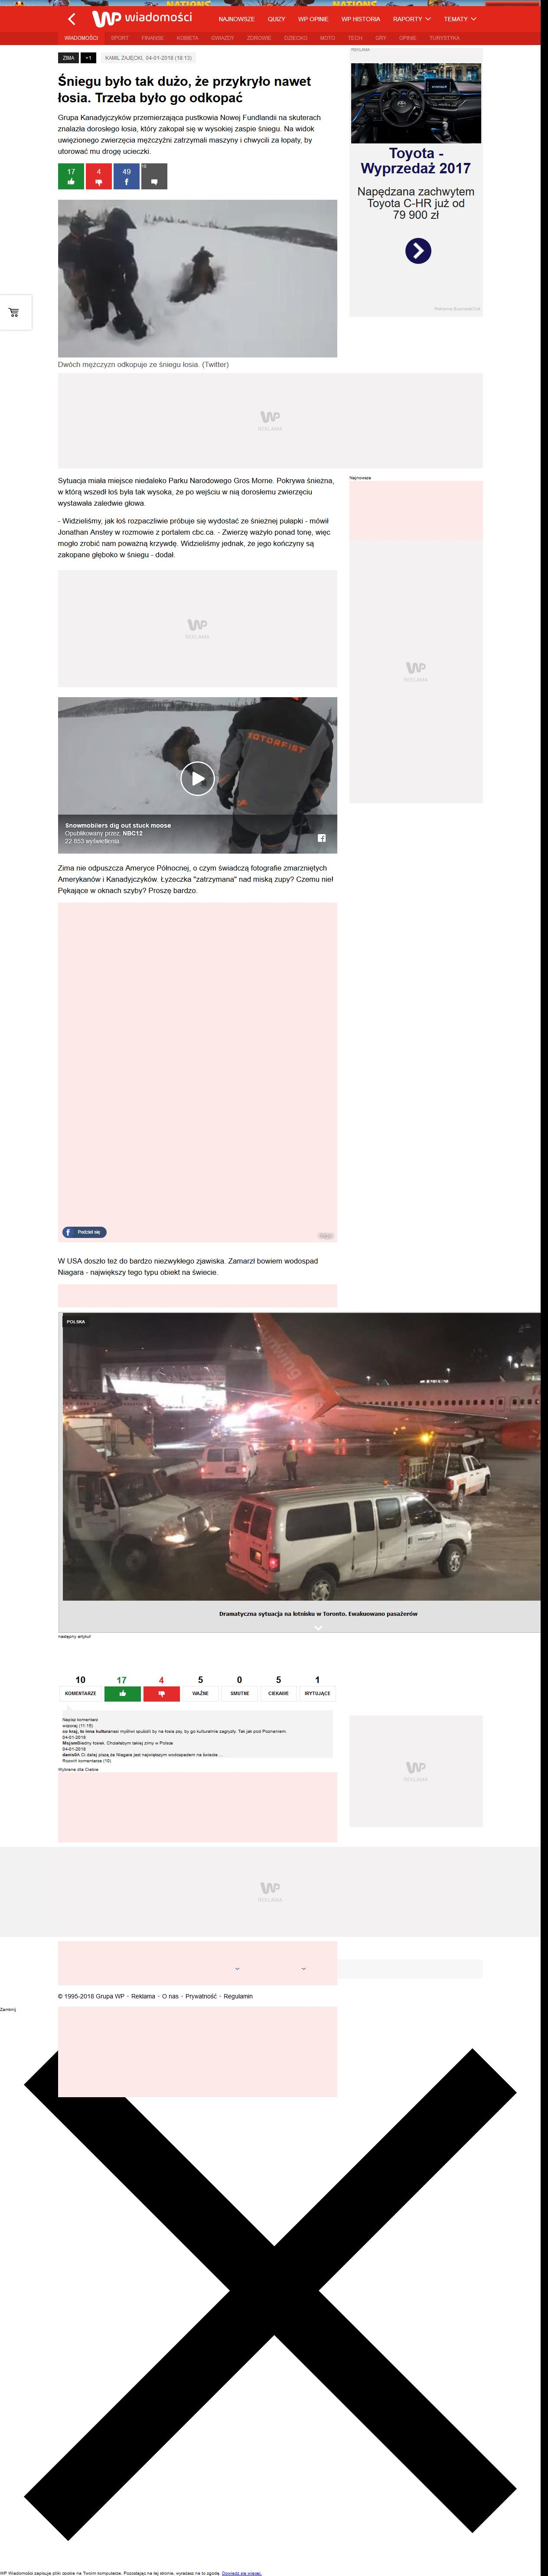title: (58, 74, 313, 105)
